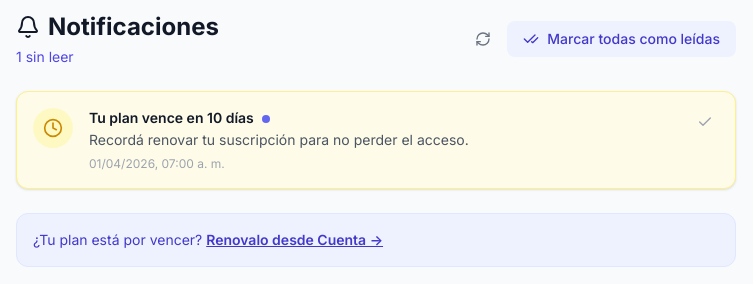
Test case: Notificaciones — marcar como leída (individual) › actualiza el contador de no leídas a 0 después de marcar la única no leída
What coordinates should you click on to do the following:
click the button titled "Marcar como leída"
I would click on:
 (705, 122)
Its box is [691,108,719,136].
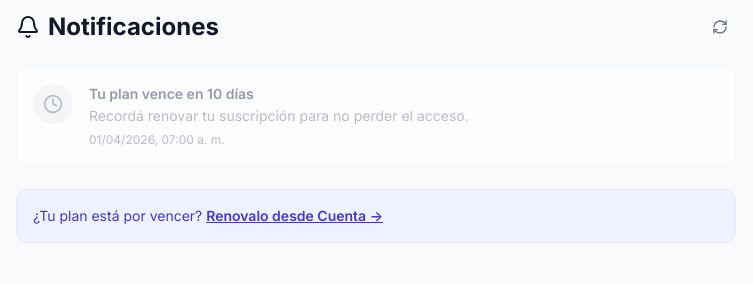
Check: the text "sin leer" is gone
